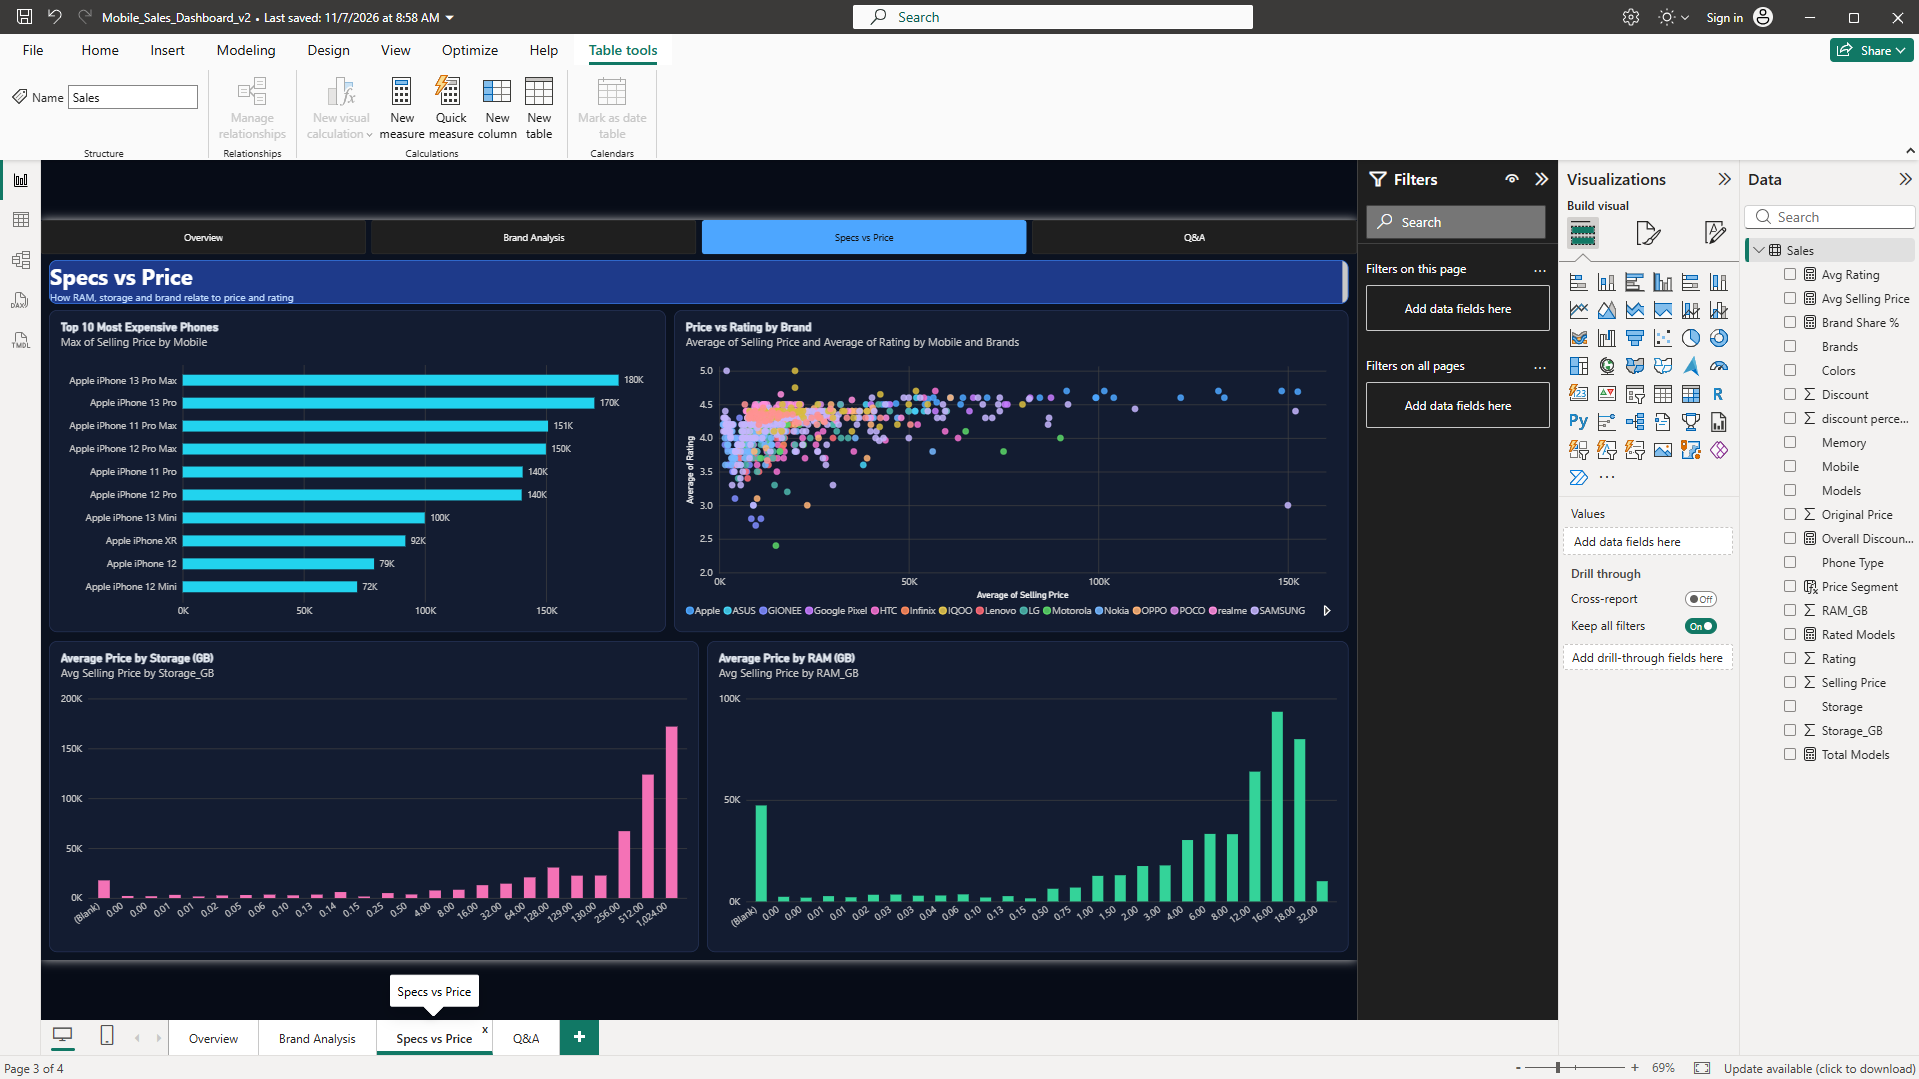

What the dashboard file says about the page in this screenshot:
{"tool":"powerbi","page":{"name":"Specs vs Price","canvas":[1920,1080],"ordinal":2},"visuals":[{"type":"clusteredColumnChart","title":"Average Price by RAM (GB)","fields":{"Category":["Sales.RAM_GB"],"Y":["Sales.Avg Selling Price"]},"box":[972,614,936,454],"z":0},{"type":"clusteredColumnChart","title":"Average Price by Storage (GB)","fields":{"Category":["Sales.Storage_GB"],"Y":["Sales.Avg Selling Price"]},"box":[12,614,948,454],"z":1},{"type":"scatterChart","title":"Price vs Rating by Brand","fields":{"Category":["Sales.Mobile"],"Series":["Sales.Brands"],"X":["Avg(Sales.Selling Price)"],"Y":["Avg(Sales.Rating)"]},"box":[924,132,984,470],"z":2},{"type":"clusteredBarChart","title":"Top 10 Most Expensive Phones","fields":{"Category":["Sales.Mobile"],"Y":["Max(Sales.Selling Price)"]},"box":[12,132,900,470],"z":3},{"type":"pageNavigator","box":[0,0,1920,50],"z":4},{"type":"textbox","box":[12,58,1896,64],"z":9000}]}

Visuals, with their boxes on the page's 1920x1080 design canvas (x1, y1, x2, y2). These are canvas units, not pixel positions in the 1919x1079 screenshot, which may show the page scaled, cropped or inside an application window:
"Average Price by RAM (GB)" clusteredColumnChart: {"left": 972, "top": 614, "right": 1908, "bottom": 1068}
"Average Price by Storage (GB)" clusteredColumnChart: {"left": 12, "top": 614, "right": 960, "bottom": 1068}
"Price vs Rating by Brand" scatterChart: {"left": 924, "top": 132, "right": 1908, "bottom": 602}
"Top 10 Most Expensive Phones" clusteredBarChart: {"left": 12, "top": 132, "right": 912, "bottom": 602}
pageNavigator: {"left": 0, "top": 0, "right": 1920, "bottom": 50}
textbox: {"left": 12, "top": 58, "right": 1908, "bottom": 122}
